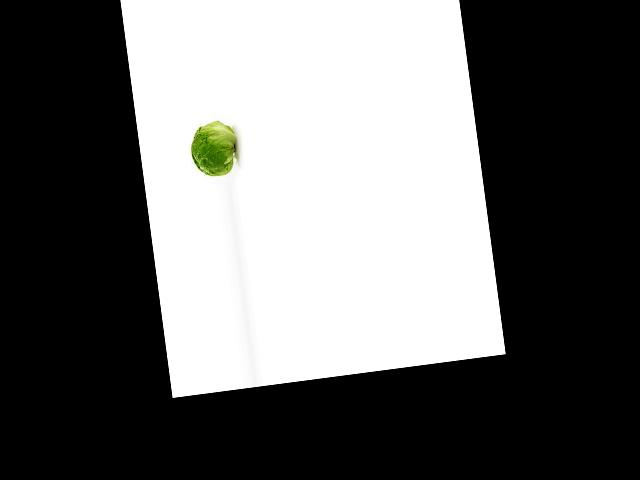lettuce: (186, 119, 238, 186)
